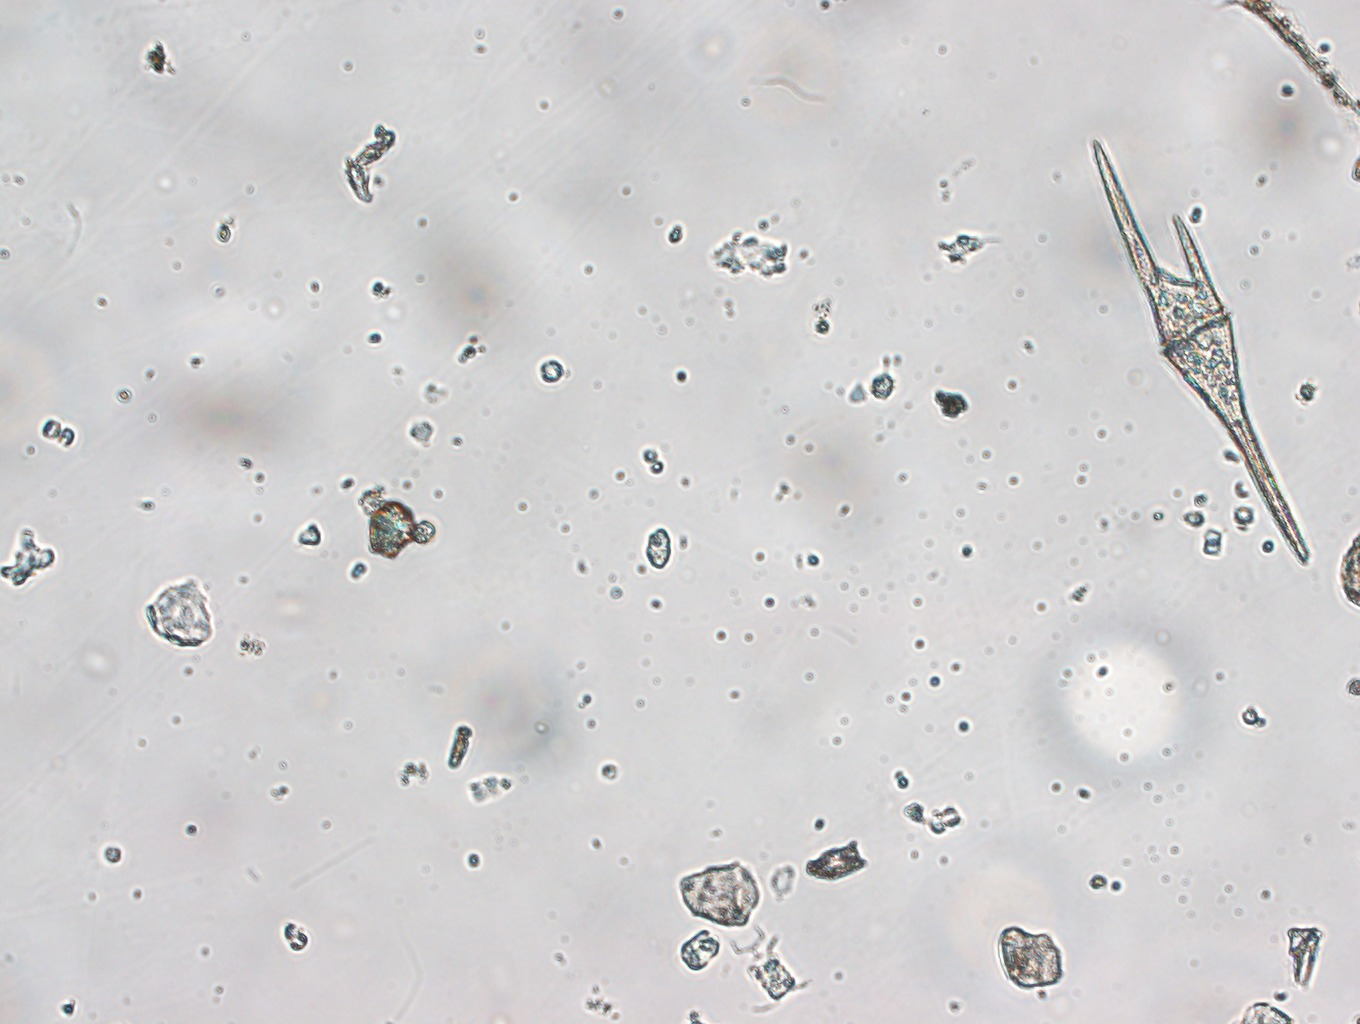ceratium furca: (1090, 136, 1327, 570)
